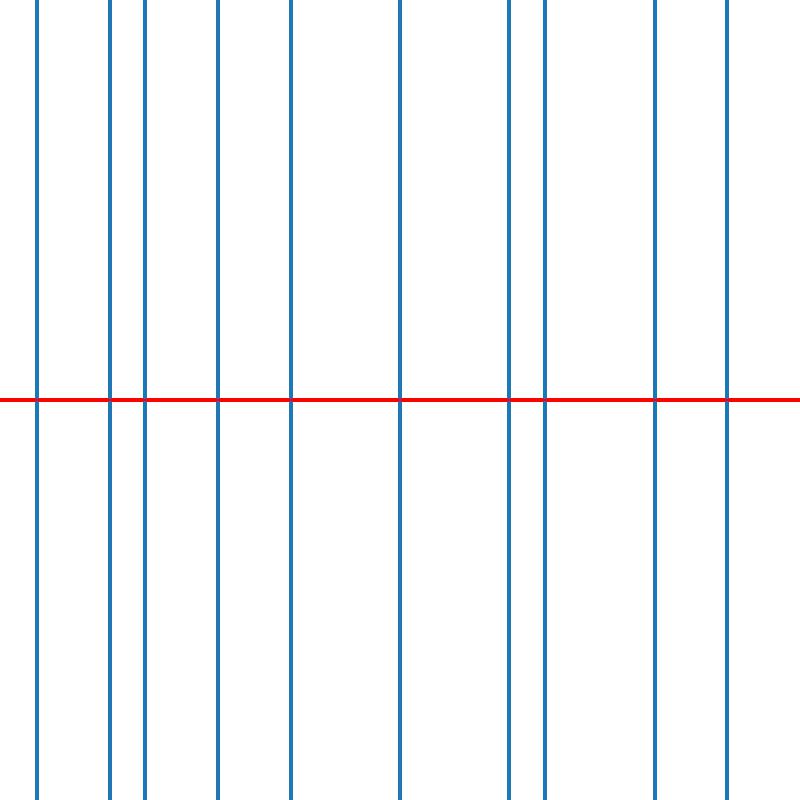root: (141, 396, 149, 404), (650, 396, 658, 404), (541, 396, 549, 404), (32, 396, 40, 404), (287, 396, 294, 404), (723, 396, 730, 404), (214, 396, 221, 404), (396, 396, 403, 404), (505, 396, 512, 404), (105, 396, 112, 404)
